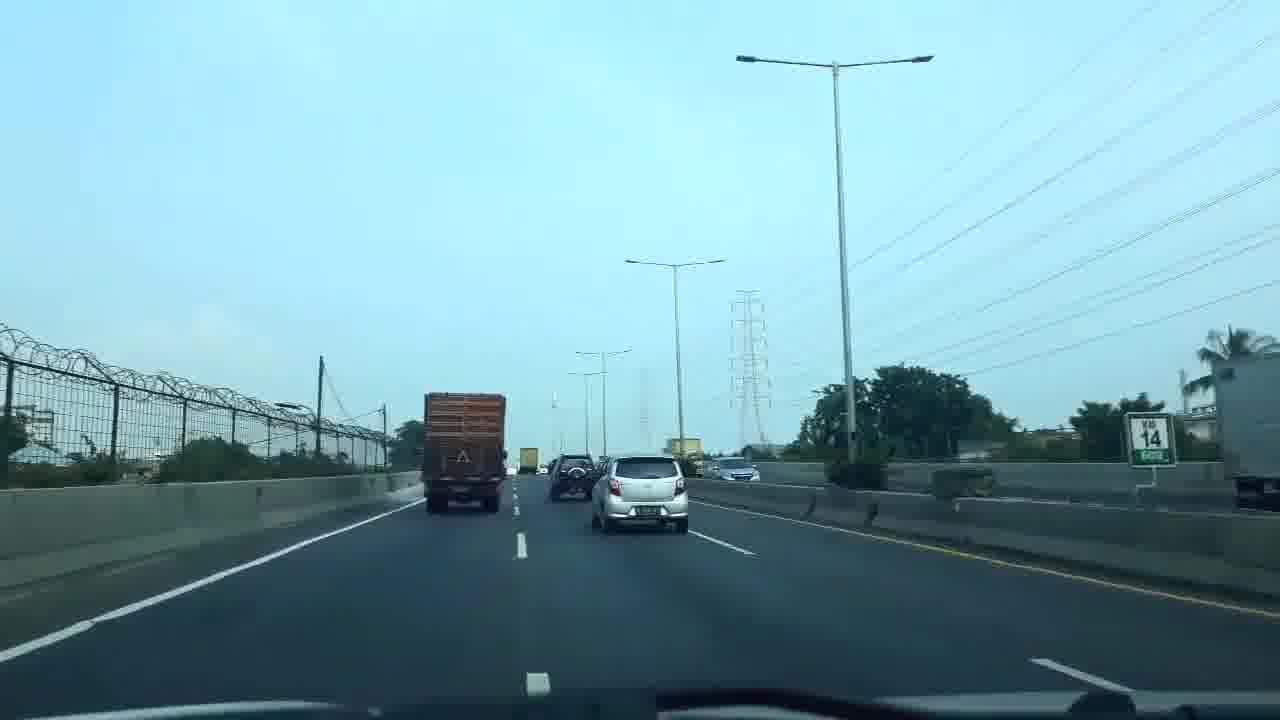plate_positive: (635, 506, 661, 516)
